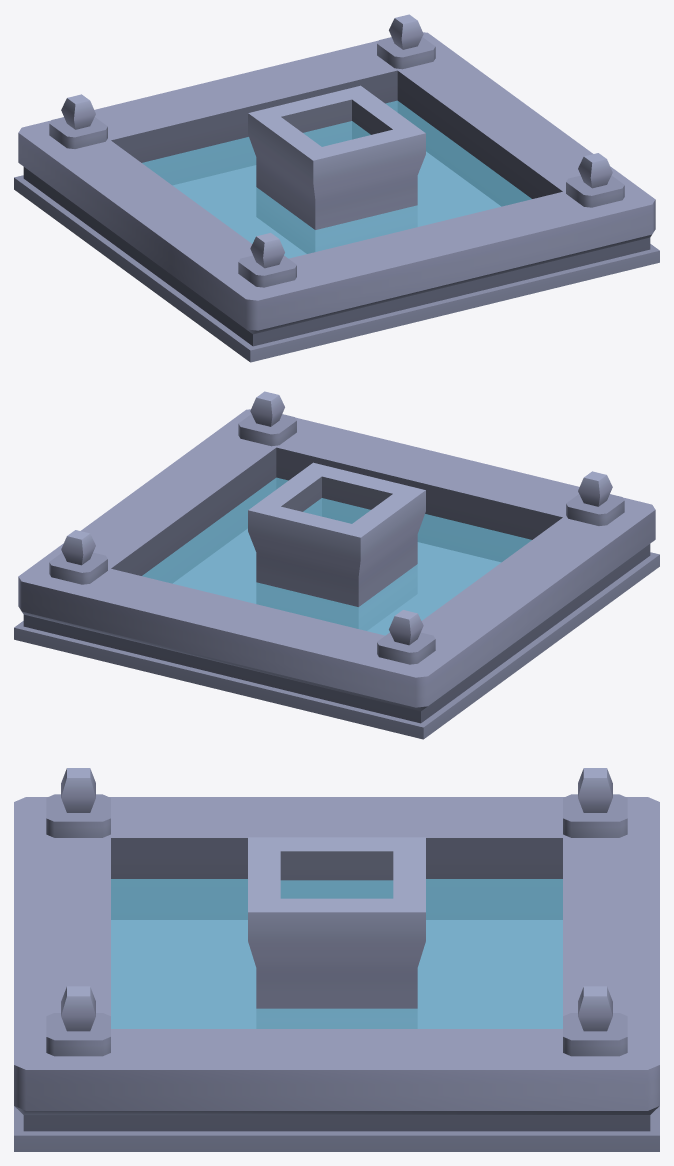
The model's file is fountain-square-detail.glb.
3 renders of one model, top to bottom at view 1: azimuth 30°, elevation 25°; view 2: azimuth 150°, elevation 25°; view 3: azimuth 270°, elevation 25°, orthographic. The views are drawn at different scales.
Visible parts, largest first — view 1: fountain-square-detail, (%ignore); view 2: fountain-square-detail, (%ignore); view 3: fountain-square-detail, (%ignore).
Part boxes in pixels (x1,y1,x2,y2): fountain-square-detail: (14, 14, 659, 362); (%ignore): (142, 100, 531, 258); fountain-square-detail: (14, 391, 659, 739); (%ignore): (142, 477, 531, 635); fountain-square-detail: (14, 768, 659, 1151); (%ignore): (111, 879, 562, 1028).
Size of the model in its own units: 2 by 0.48 by 2.
Materials: 2 (1 with a texture image).
